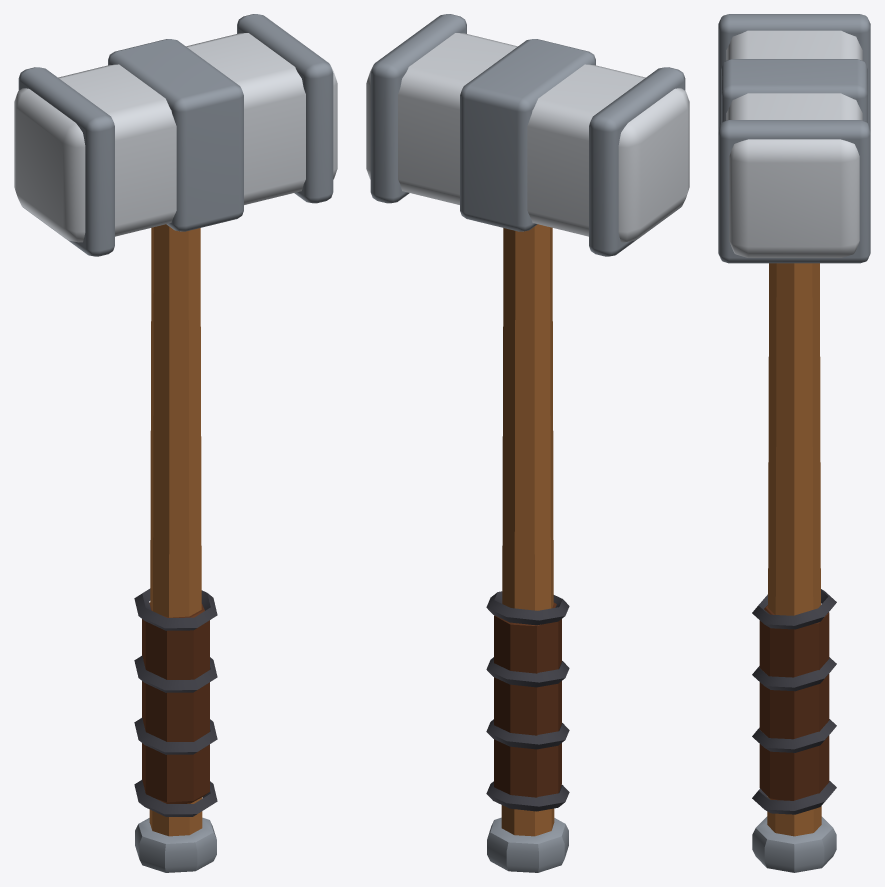
Rendered from IronHammer.fbx.
The picture shows the model from 3 angles, left to right: view 1: azimuth 30°, elevation 25°; view 2: azimuth 150°, elevation 25°; view 3: azimuth 270°, elevation 25°; orthographic projection.
Visible parts, largest first — view 1: IronHammer; view 2: IronHammer; view 3: IronHammer.
Boxes of the visible parts, box(x1,y1,x2,y2) form: IronHammer: box(14, 14, 337, 872); IronHammer: box(366, 14, 689, 872); IronHammer: box(718, 14, 870, 872).
Size of the model in its own units: 1.15 by 3.2 by 0.56.
1 material, 1 textured.
